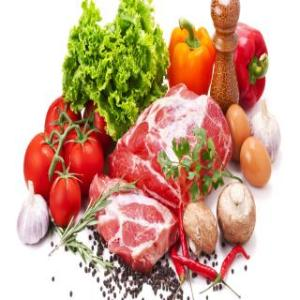bell_pepper: (166, 16, 212, 102), (236, 23, 268, 106)
egg: (240, 135, 270, 186), (227, 101, 249, 161)
garlic: (14, 184, 48, 246), (248, 104, 280, 166)
tomato: (24, 128, 60, 198), (66, 125, 100, 188), (46, 92, 74, 154), (53, 169, 81, 227)
